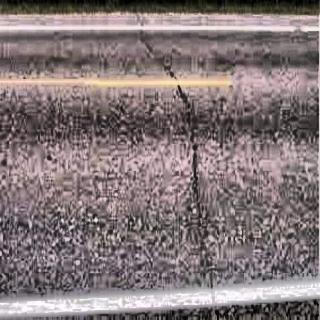crack: (183, 88, 214, 275), (138, 12, 180, 92)
